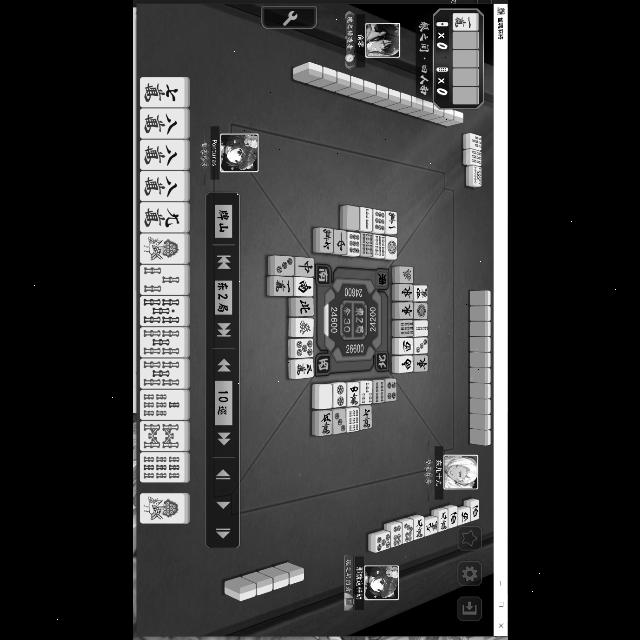1m: (452, 14, 478, 31), (275, 276, 293, 296), (386, 211, 398, 235)
1p: (412, 302, 428, 320), (386, 237, 398, 260)
1s: (139, 234, 185, 264), (140, 494, 184, 524)
2p: (332, 382, 346, 408)
2s: (361, 206, 374, 232), (414, 321, 428, 337)
3m: (295, 359, 313, 378)
3p: (274, 256, 294, 276), (332, 410, 346, 434), (414, 336, 428, 354)
3s: (140, 264, 184, 294), (360, 381, 372, 404)
4m: (346, 382, 359, 406), (414, 285, 428, 301)
4p: (386, 379, 396, 401)
4s: (372, 380, 386, 402)
5m: (320, 412, 332, 436)
5p: (295, 338, 313, 358), (374, 533, 391, 553)
5s: (140, 296, 184, 326), (140, 326, 184, 356), (140, 359, 184, 389), (473, 166, 481, 187)
6p: (391, 524, 402, 548)
6s: (372, 236, 386, 258), (360, 233, 372, 257), (471, 148, 484, 166)
7m: (138, 78, 182, 108), (320, 228, 332, 254), (360, 406, 372, 430)
7p: (403, 520, 413, 544)
7s: (140, 390, 184, 420), (470, 134, 482, 150)
8m: (140, 170, 183, 202), (140, 140, 184, 170), (140, 109, 184, 138)
8s: (140, 422, 184, 452)
9m: (140, 201, 184, 233), (424, 518, 438, 538), (414, 516, 424, 540), (438, 511, 448, 532)
9p: (346, 234, 359, 256), (374, 210, 386, 232)
9s: (140, 452, 184, 482), (347, 408, 359, 434), (400, 320, 414, 338)
chun: (295, 258, 313, 276), (334, 230, 346, 254)
haku: (319, 384, 333, 411), (348, 206, 360, 230)
hatsu: (294, 318, 314, 338), (399, 268, 413, 282)
nan: (295, 278, 313, 296), (399, 356, 413, 372)
pe: (296, 298, 314, 316)
sha: (399, 338, 413, 354), (448, 507, 458, 528), (458, 509, 470, 525), (471, 500, 479, 522)
tou: (399, 284, 413, 300), (400, 303, 414, 319), (414, 356, 428, 370)
